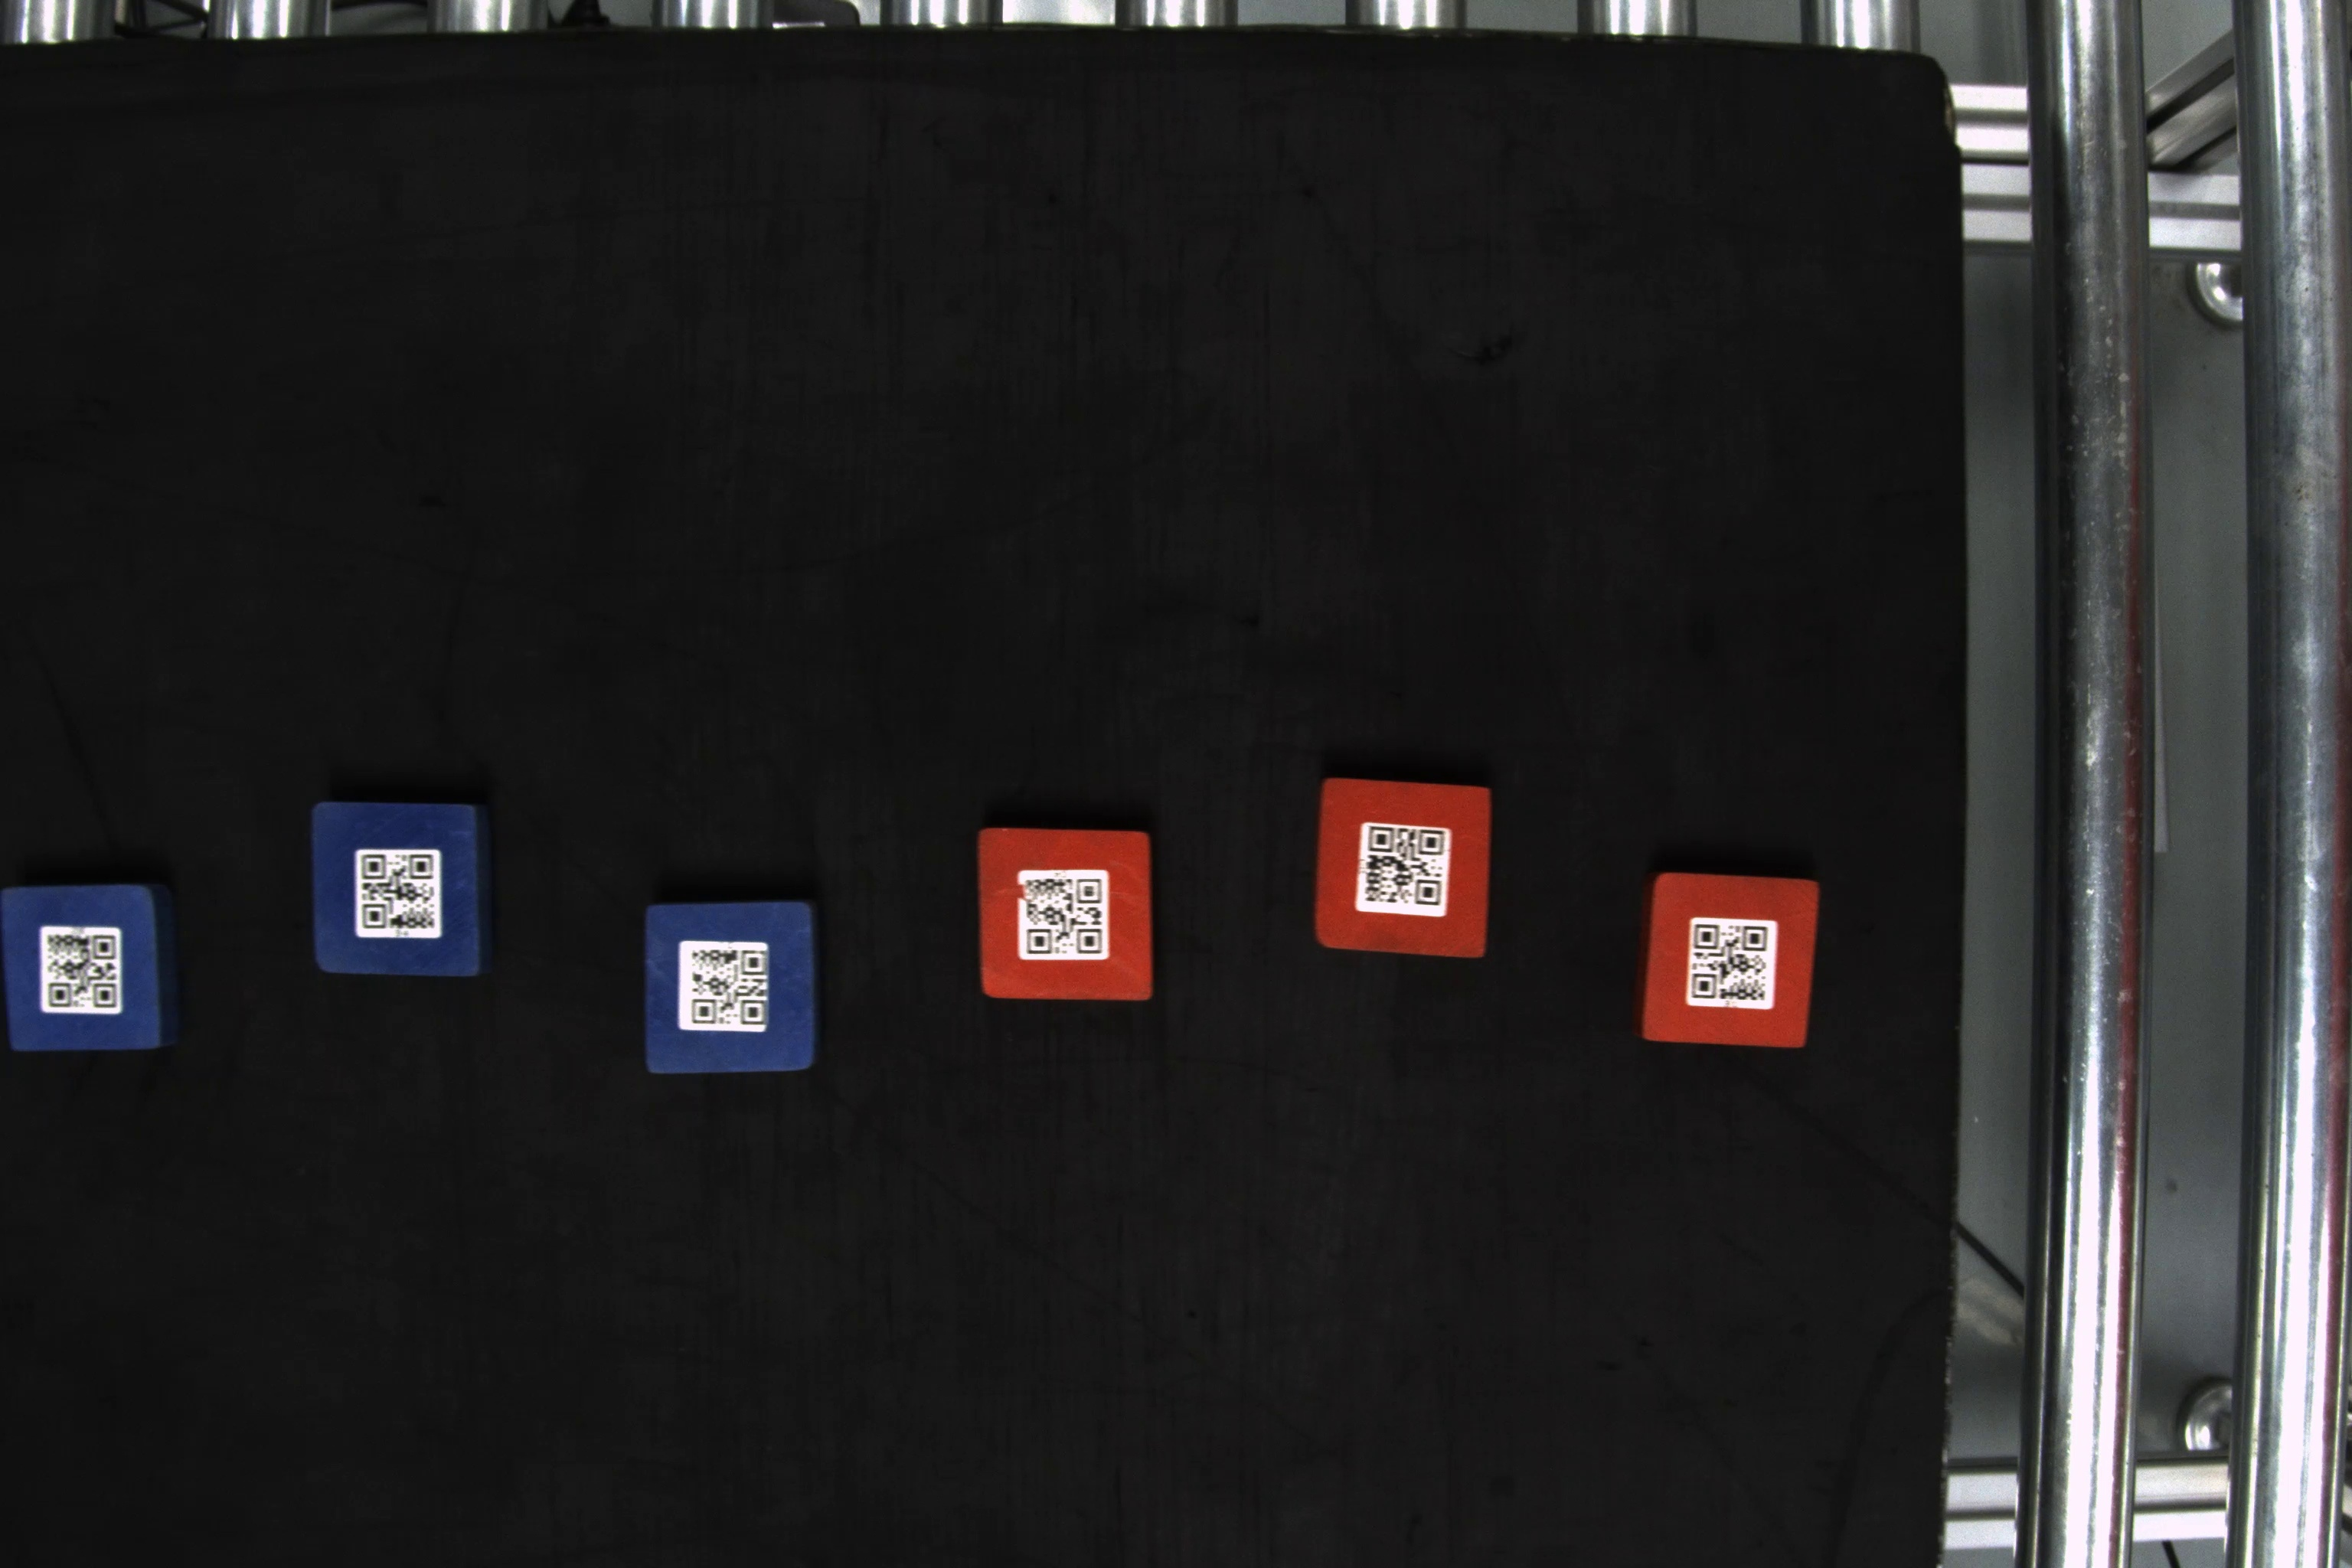wood: (306, 796, 497, 983), (1316, 772, 1498, 961), (1640, 868, 1823, 1050), (642, 898, 826, 1078), (973, 826, 1158, 1004), (2, 880, 184, 1055)
